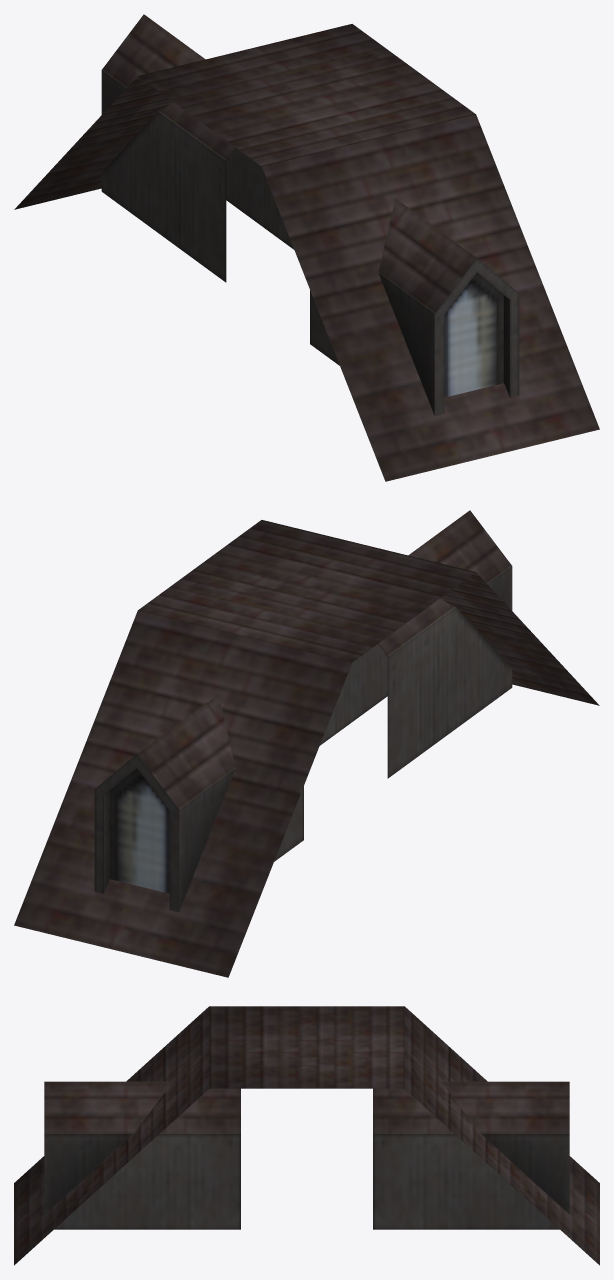
Rendered from B10_RoofMiddle.FBX.
The picture shows the model from 3 angles, top to bottom: view 1: azimuth 30°, elevation 25°; view 2: azimuth 150°, elevation 25°; view 3: azimuth 270°, elevation 25°; orthographic projection. The views are drawn at different scales.
Parts seen in each view (by area): view 1: B10_RoofMiddle; view 2: B10_RoofMiddle; view 3: B10_RoofMiddle.
Part boxes in pixels (x1,y1,x2,y2): B10_RoofMiddle: [14, 14, 599, 481]; B10_RoofMiddle: [14, 510, 599, 977]; B10_RoofMiddle: [14, 1006, 599, 1265].
Size of the model in its own units: 4 by 4 by 12.
